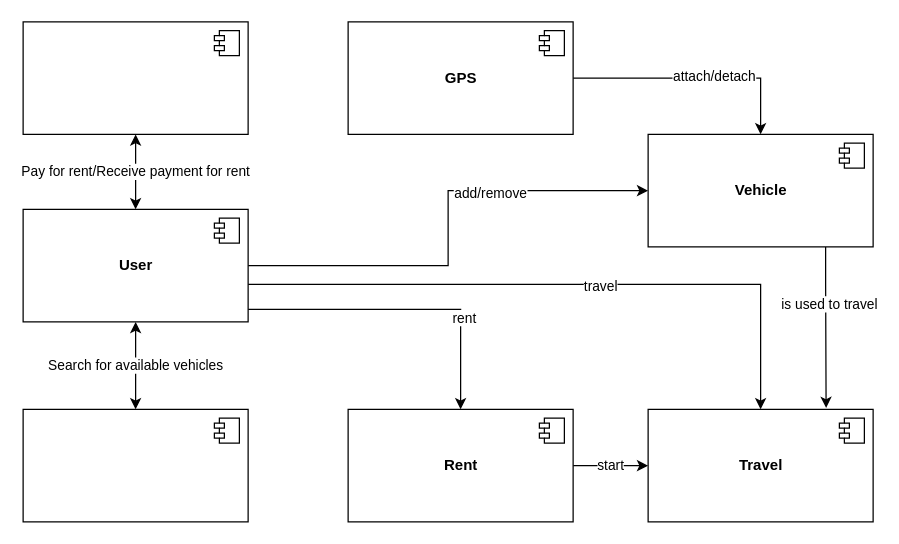
Some shapes in this 899 by 544 pixel diagram are drawn without their labels. The shapes that lost their labels are listed below. From the top down, each one's centre as x and y in pixels, then its label:
At (135,77): "Billing service".
At (135,465): "Search".
